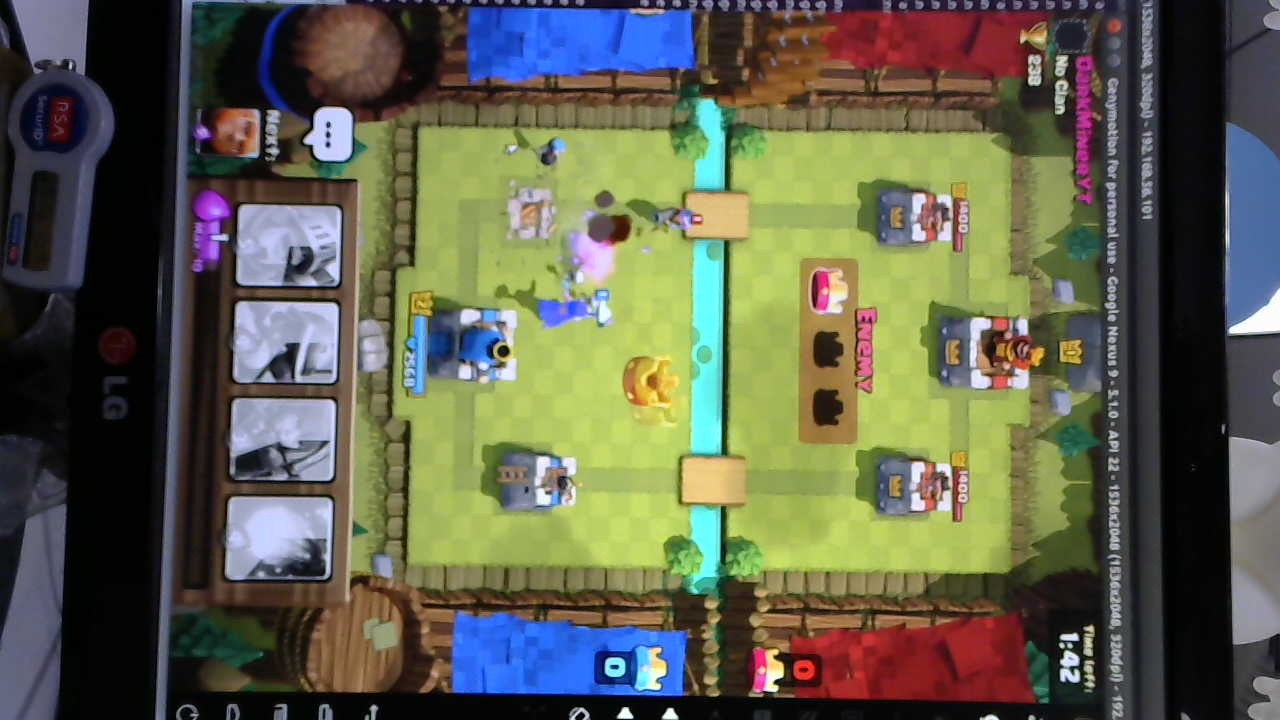arena: (500, 447, 579, 513)
bomb: (535, 130, 571, 168)
darena: (506, 185, 552, 242)
earena: (877, 455, 958, 520), (872, 184, 952, 248)
eking: (926, 312, 1044, 393)
king: (427, 304, 521, 384)
musketeer: (647, 204, 699, 234)
skeleton: (556, 267, 591, 295)
witch: (533, 290, 618, 329)
